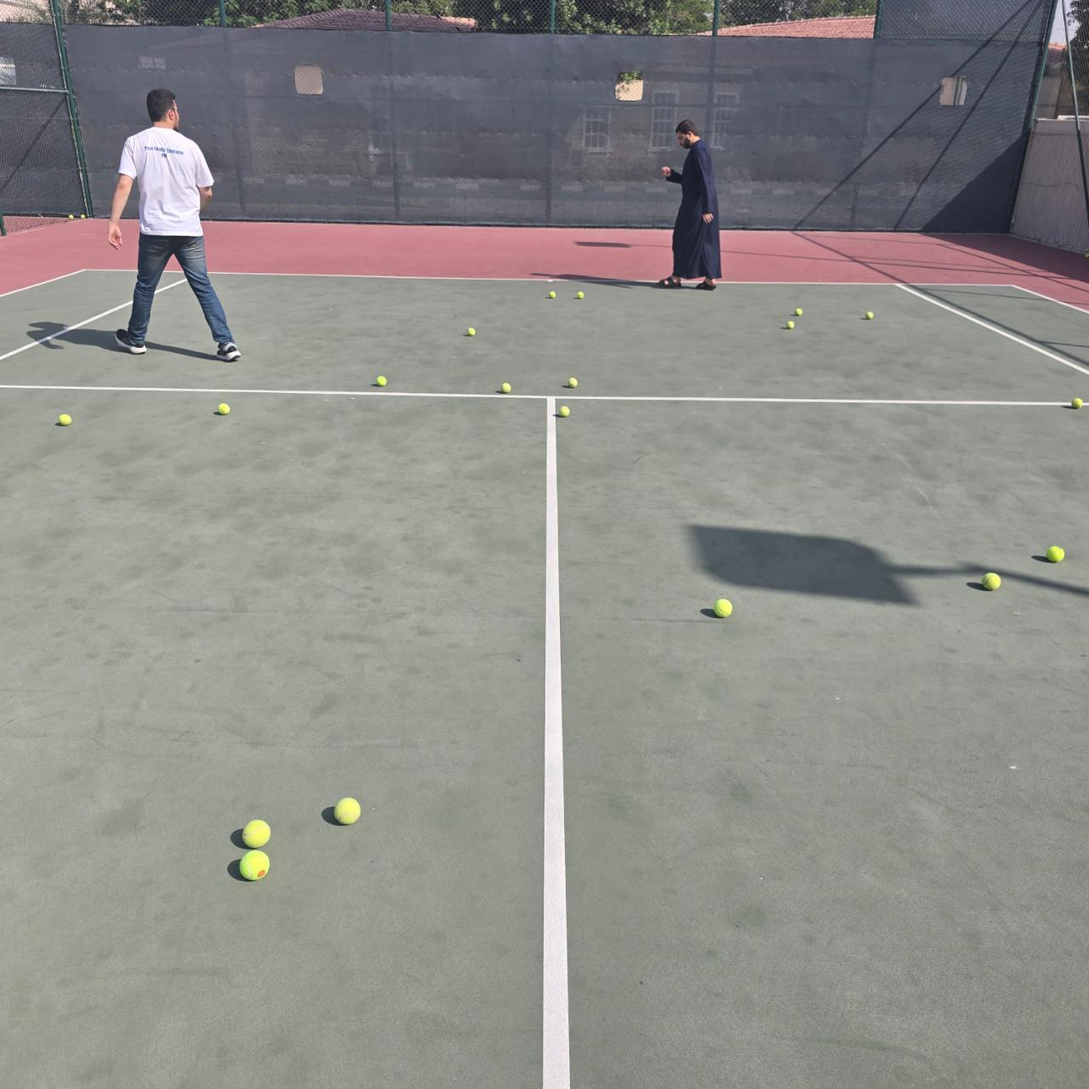tennis-ball: (238, 847, 271, 881), (241, 817, 271, 847), (334, 795, 361, 824), (713, 596, 733, 618), (980, 570, 1001, 590), (1046, 543, 1064, 562), (215, 400, 231, 414), (55, 412, 71, 425), (558, 406, 570, 417), (375, 375, 386, 386), (1071, 398, 1082, 409), (567, 378, 578, 388), (501, 383, 511, 393), (467, 328, 476, 336), (794, 308, 803, 316), (865, 311, 873, 320), (576, 291, 584, 299), (786, 321, 794, 329), (549, 291, 556, 299), (69, 214, 74, 220), (81, 214, 85, 219)
